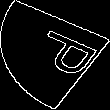P_SE: (12, 26, 98, 84)
